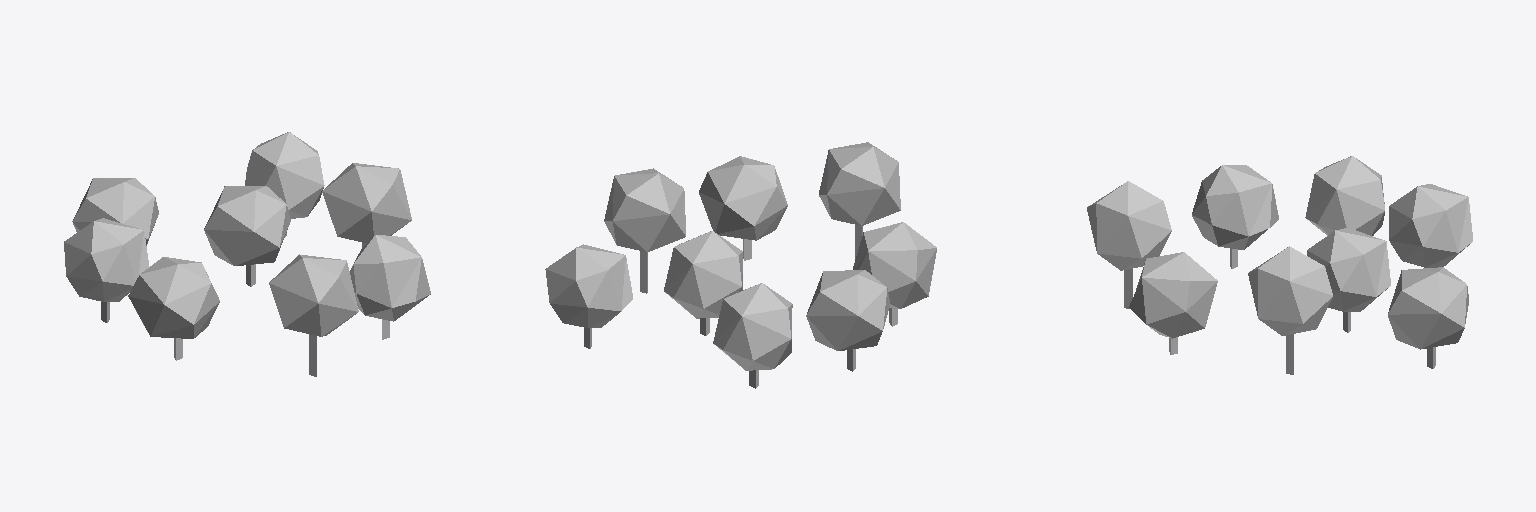
Rendered from tree_3.obj.
3 renders of one model, left to right at view 1: azimuth 30°, elevation 25°; view 2: azimuth 150°, elevation 25°; view 3: azimuth 270°, elevation 25°, orthographic.
Visible parts, largest first — view 1: t1_bush.001_Icosphere.005, t2_bush.003_Icosphere.006, t2_bush.005_Icosphere.008, t2_bush.002_Icosphere.004, t1_bush_Icosphere, t2_bush_Icosphere.003, t2_bush.001_Icosphere.002, t2_bush.004_Icosphere.007; view 2: t1_bush.001_Icosphere.005, t2_bush.001_Icosphere.002, t2_bush_Icosphere.003, t1_bush_Icosphere, t2_bush.005_Icosphere.008, t2_bush.004_Icosphere.007, t2_bush.002_Icosphere.004, t2_bush.003_Icosphere.006; view 3: t2_bush.004_Icosphere.007, t1_bush.001_Icosphere.005, t2_bush.003_Icosphere.006, t1_bush_Icosphere, t2_bush_Icosphere.003, t2_bush.001_Icosphere.002, t2_bush.005_Icosphere.008, t2_bush.002_Icosphere.004.
Part boxes in pixels (x1,y1,x2,y2): t1_bush.001_Icosphere.005: (269, 254, 358, 376); t2_bush.003_Icosphere.006: (128, 257, 219, 338); t2_bush.005_Icosphere.008: (64, 218, 148, 301); t2_bush.002_Icosphere.004: (204, 186, 290, 265); t1_bush_Icosphere: (322, 163, 411, 246); t2_bush_Icosphere.003: (350, 235, 430, 321); t2_bush.001_Icosphere.002: (245, 132, 324, 218); t2_bush.004_Icosphere.007: (72, 178, 158, 245); t1_bush.001_Icosphere.005: (819, 142, 900, 258); t2_bush.001_Icosphere.002: (545, 244, 632, 327); t2_bush_Icosphere.003: (699, 156, 787, 240); t1_bush_Icosphere: (604, 168, 685, 292); t2_bush.005_Icosphere.008: (806, 270, 889, 350); t2_bush.004_Icosphere.007: (713, 283, 792, 370); t2_bush.002_Icosphere.004: (664, 231, 742, 318); t2_bush.003_Icosphere.006: (853, 222, 936, 308); t2_bush.004_Icosphere.007: (1389, 184, 1472, 267); t1_bush.001_Icosphere.005: (1087, 181, 1171, 308); t2_bush.003_Icosphere.006: (1192, 165, 1278, 249); t1_bush_Icosphere: (1248, 246, 1332, 373); t2_bush_Icosphere.003: (1129, 252, 1217, 338); t2_bush.001_Icosphere.002: (1388, 267, 1468, 349); t2_bush.005_Icosphere.008: (1305, 156, 1384, 235); t2_bush.002_Icosphere.004: (1307, 228, 1390, 311).
Size of the model in its own units: 0.7973 by 0.304 by 0.8766.